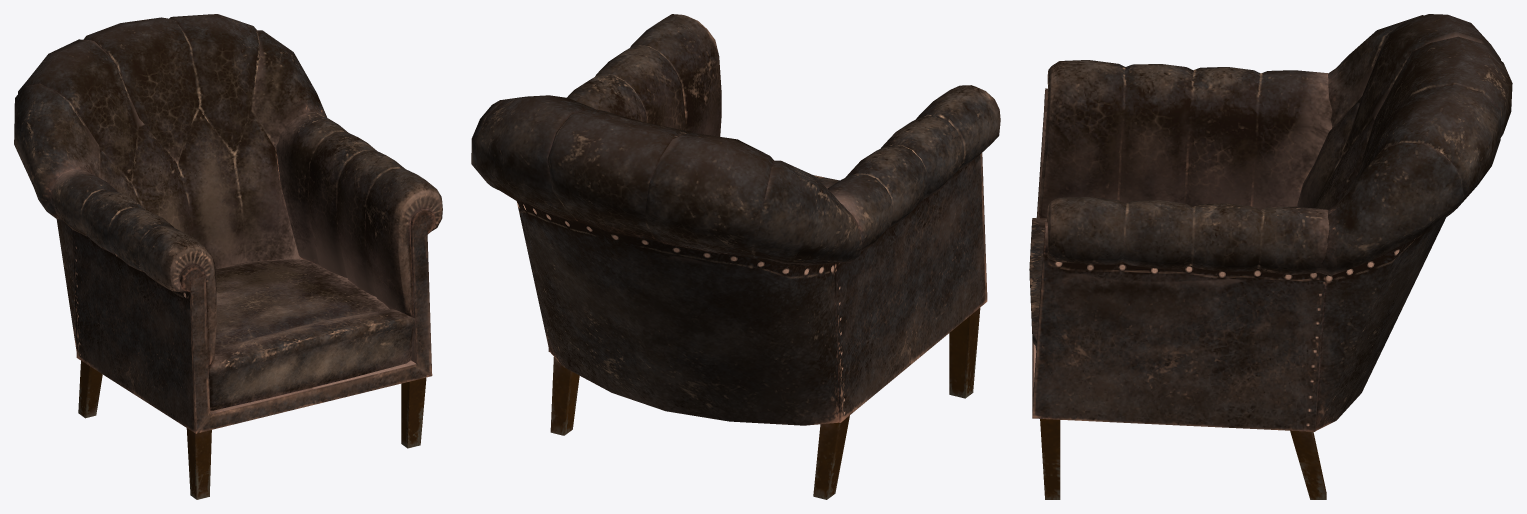
Rendered from poltrona.glb.
3 renders of one model, left to right at view 1: azimuth 30°, elevation 25°; view 2: azimuth 150°, elevation 25°; view 3: azimuth 270°, elevation 25°, orthographic. The views are drawn at different scales.
Parts seen in each view (by area): view 1: Object_2; view 2: Object_2; view 3: Object_2.
Boxes of the visible parts, x1,y1,x2,y2 form: Object_2: [14, 14, 442, 499]; Object_2: [471, 14, 1000, 499]; Object_2: [1029, 14, 1512, 499].
Bounding box in the file's own units: 90.43 × 95.37 × 110.
Materials: 1 (1 with a texture image).
